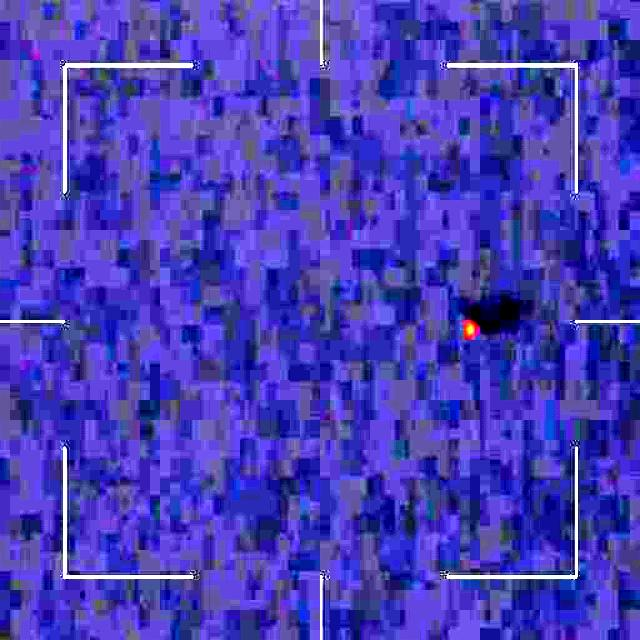bird: (460, 310, 479, 342)
